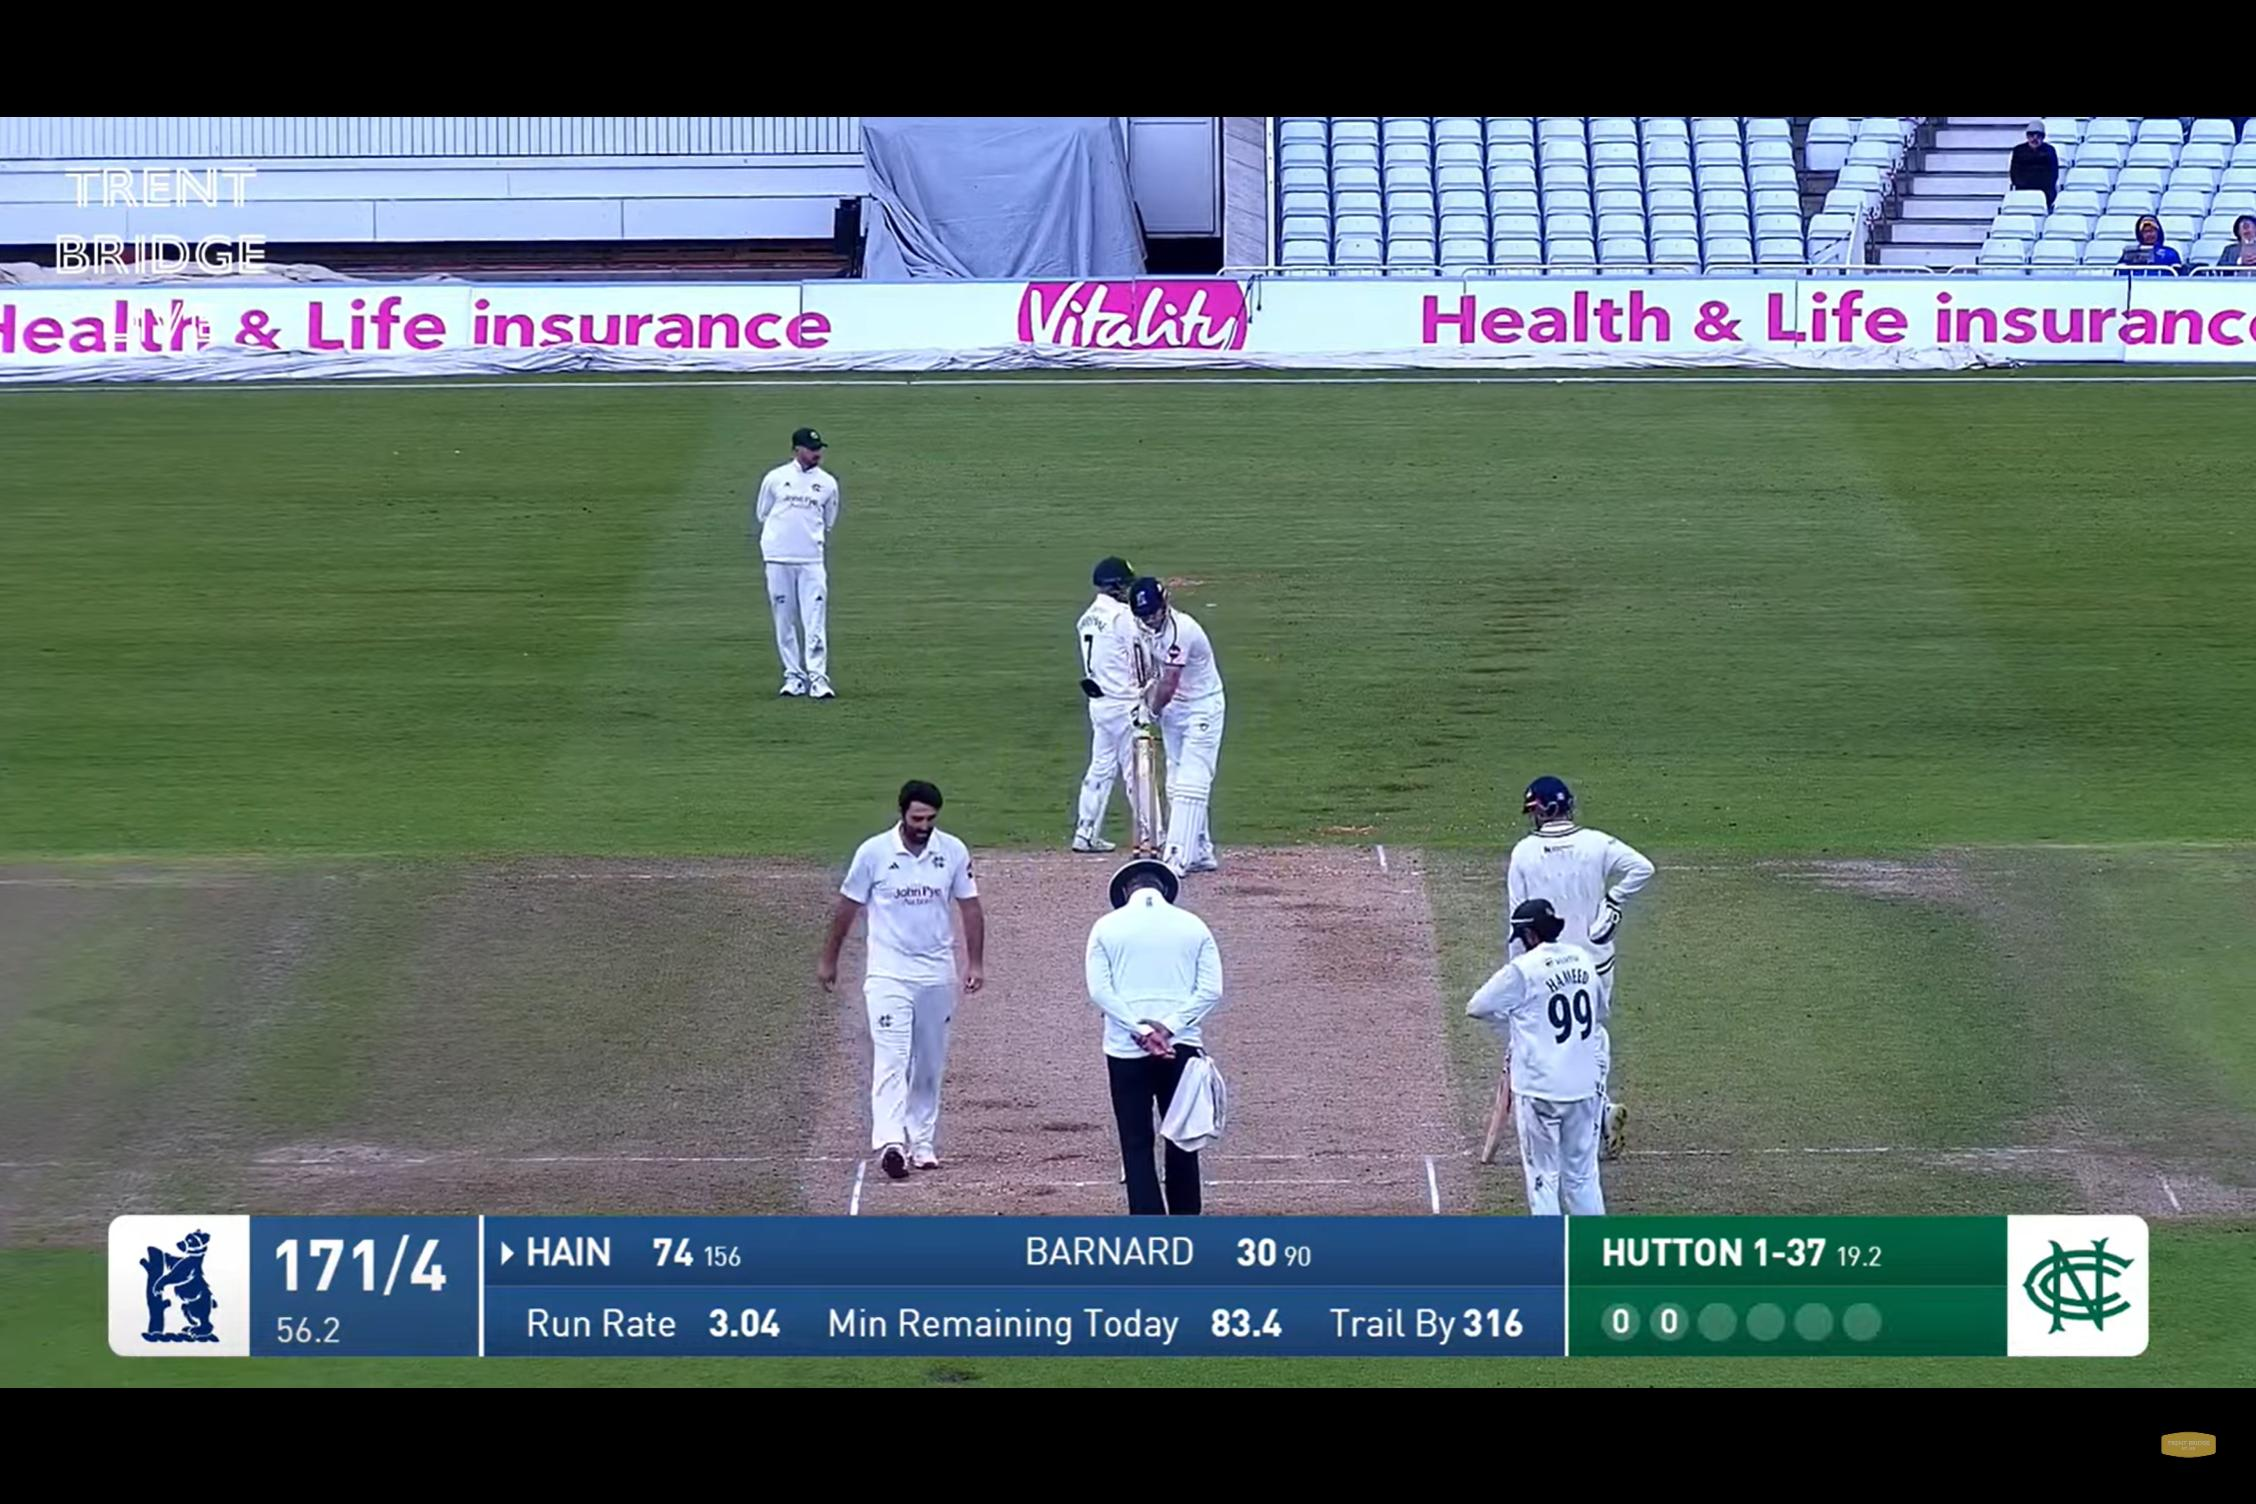batsman: (1121, 586, 1239, 868)
bowler walking back: (791, 782, 1039, 1188)
umpire: (1086, 863, 1242, 1209)
